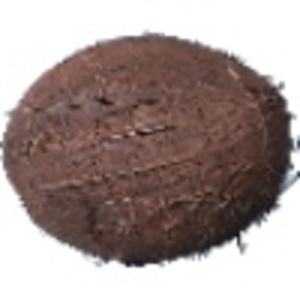coco: (3, 34, 300, 268)
